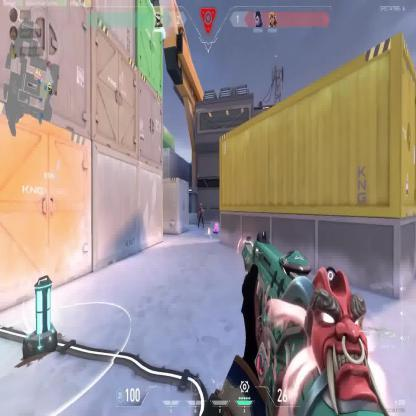enemy: (197, 199, 204, 229)
enemy_head: (200, 202, 202, 210)
